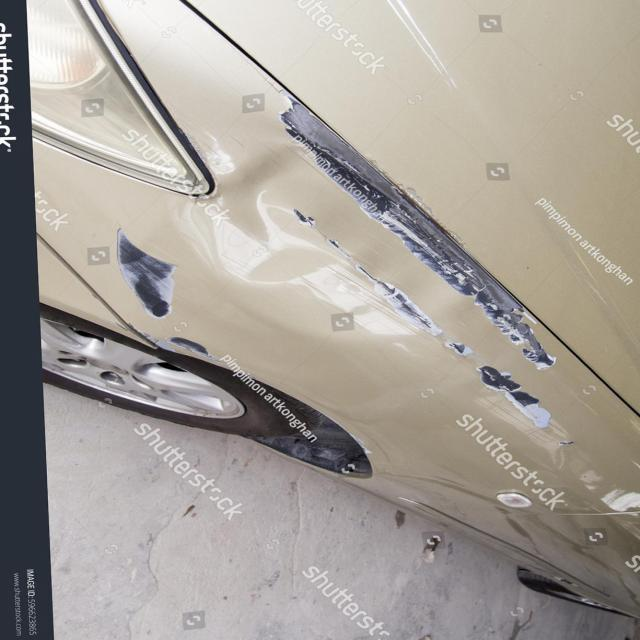scratch: (254, 69, 567, 431), (111, 230, 231, 364)
